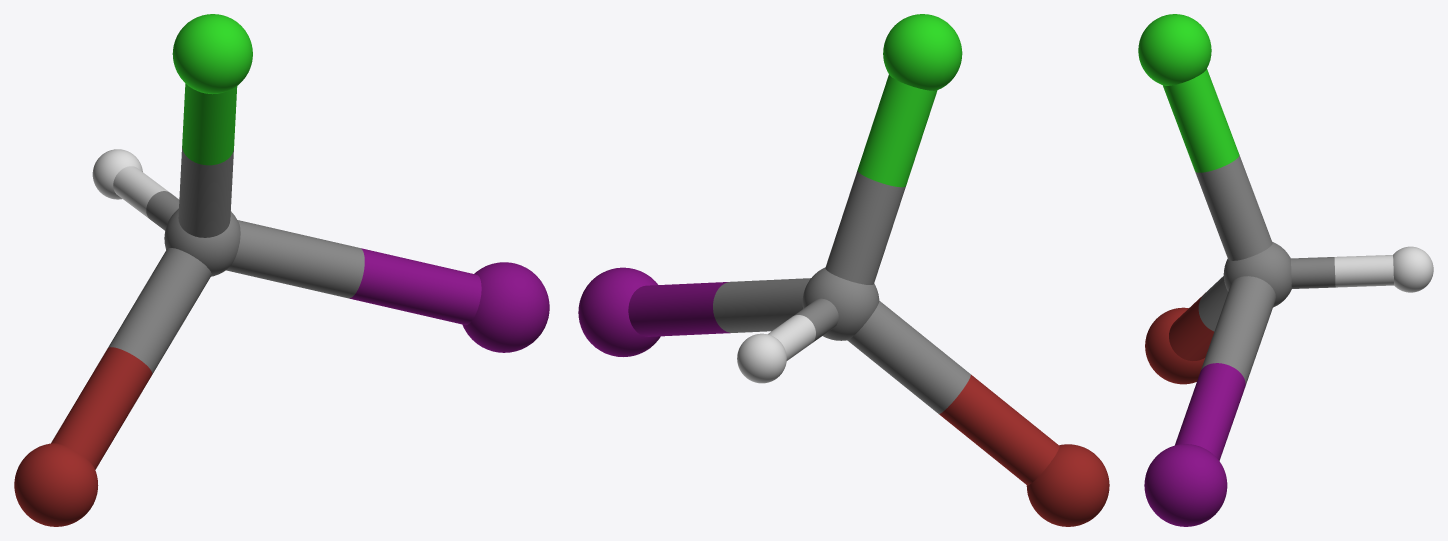
The model's file is RBROMOCHLOROIODOMETHANE.MOL2.glb.
The picture shows the model from 3 angles, left to right: view 1: azimuth 30°, elevation 25°; view 2: azimuth 150°, elevation 25°; view 3: azimuth 270°, elevation 25°; orthographic projection. The views are drawn at different scales.
Bounding box in the file's own units: 3.97 × 3.4 × 2.11.
